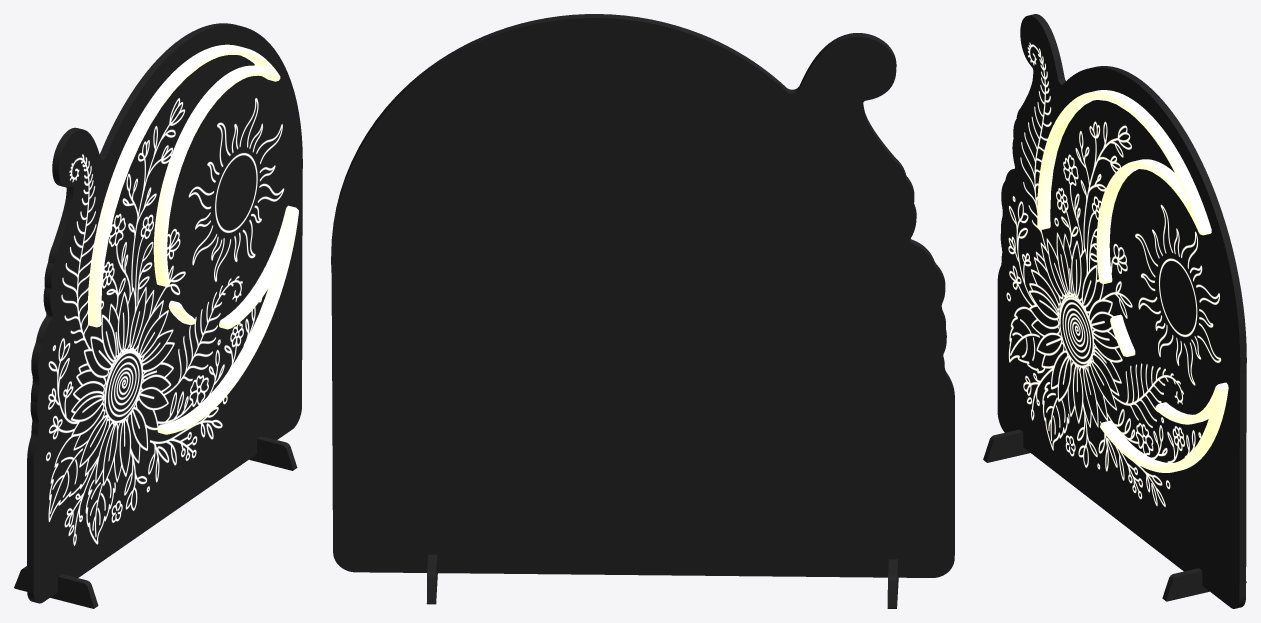
Rendered from TRY 6_1_ МІСЯЦЬ.glb.
The picture shows the model from 3 angles, left to right: view 1: azimuth 30°, elevation 25°; view 2: azimuth 150°, elevation 25°; view 3: azimuth 270°, elevation 25°; orthographic projection. The views are drawn at different scales.
Visible parts, largest first — view 1: Curve, Ресурс 1, Curve.003, Curve.159; view 2: Curve, Curve.159; view 3: Curve, Ресурс 1, Curve.003, Curve.159.
Part boxes in pixels (x1=…): Curve: x1=27, y1=23, x2=302, y2=603; Ресурс 1: x1=46, y1=98, x2=284, y2=545; Curve.003: x1=88, y1=44, x2=298, y2=434; Curve.159: x1=14, y1=436, x2=297, y2=608; Curve: x1=331, y1=14, x2=954, y2=577; Curve.159: x1=426, y1=554, x2=898, y2=608; Curve: x1=997, y1=14, x2=1246, y2=608; Ресурс 1: x1=1006, y1=42, x2=1221, y2=506; Curve.003: x1=1037, y1=90, x2=1228, y2=472; Curve.159: x1=983, y1=429, x2=1246, y2=601.
Size of the model in its own units: 0.2963 by 0.3354 by 0.1745.
3 materials, 1 textured.
